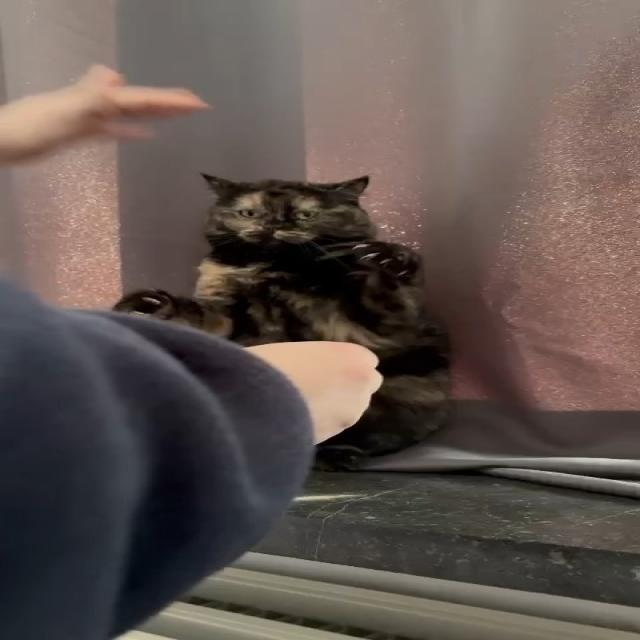authorized: (110, 171, 454, 471)
